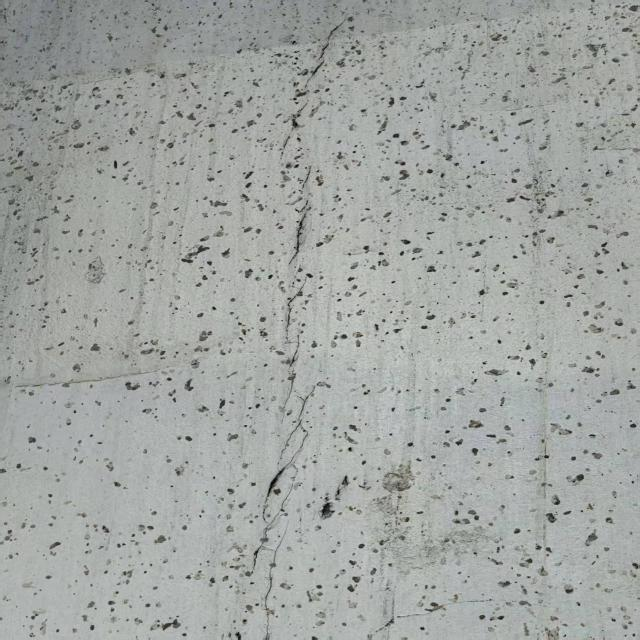crack: (238, 11, 369, 633), (13, 336, 227, 402)
